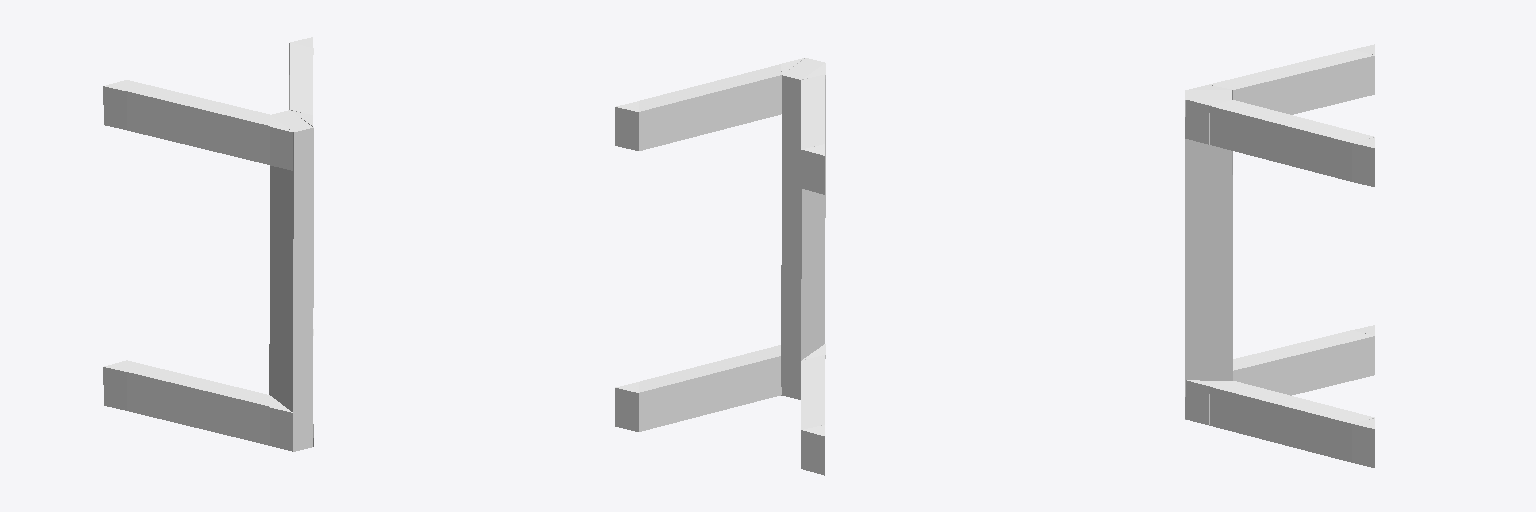
Rendered from Barrier.obj.
3 views of the same model, side by side, from view 1: azimuth 30°, elevation 25°; view 2: azimuth 150°, elevation 25°; view 3: azimuth 270°, elevation 25° (orthographic).
Visible parts, largest first — view 1: Object.13, Object.2, Object.5, Object.8, Object.1, Object.4, Object.6, Object.3; view 2: Object.13, Object.8, Object.11, Object.5, Object.2, Object.1, Object.4, Object.10, Object.7; view 3: Object.13, Object.11, Object.8, Object.2, Object.5, Object.12, Object.9, Object.10, Object.7.
Boxes of the visible parts, <box> form: Object.13: <box>269,110,313,451</box>; Object.2: <box>127,80,269,164</box>; Object.5: <box>127,360,269,445</box>; Object.8: <box>289,42,313,114</box>; Object.1: <box>103,80,126,129</box>; Object.4: <box>103,360,126,410</box>; Object.6: <box>270,396,292,450</box>; Object.3: <box>270,115,292,170</box>; Object.13: <box>781,58,825,399</box>; Object.8: <box>639,64,781,150</box>; Object.11: <box>639,345,781,431</box>; Object.5: <box>801,355,824,429</box>; Object.2: <box>801,74,824,148</box>; Object.1: <box>801,144,824,194</box>; Object.4: <box>801,425,824,475</box>; Object.10: <box>615,382,638,431</box>; Object.7: <box>615,101,638,150</box>; Object.13: <box>1185,90,1232,419</box>; Object.11: <box>1209,381,1374,462</box>; Object.8: <box>1209,100,1373,181</box>; Object.2: <box>1209,50,1374,114</box>; Object.5: <box>1233,330,1374,395</box>; Object.12: <box>1185,380,1228,424</box>; Object.9: <box>1185,99,1229,144</box>; Object.10: <box>1352,418,1374,467</box>; Object.7: <box>1352,137,1374,186</box>.
Size of the model in its own units: 9.74 by 14.31 by 7.67.